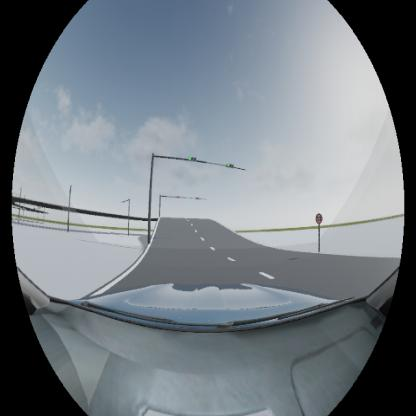Green Light: (187, 155, 197, 162), (226, 162, 235, 169)
